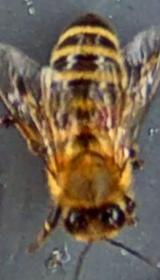varroa_mite: (90, 87, 126, 146)
